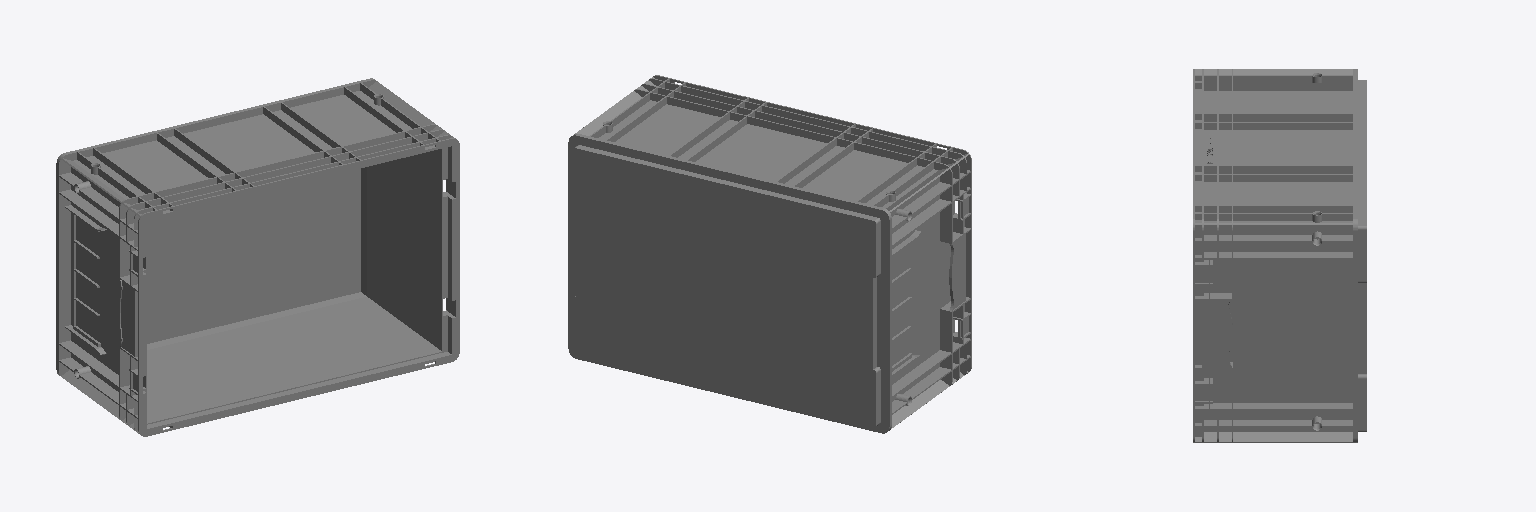
File: klt.obj
3 renders of one model, left to right at view 1: azimuth 30°, elevation 25°; view 2: azimuth 150°, elevation 25°; view 3: azimuth 270°, elevation 25°, orthographic.
Visible parts, largest first — view 1: klt; view 2: klt; view 3: klt.
Boxes of the visible parts, box(x1,y1,x2,y2) form: klt: box(56, 78, 459, 436); klt: box(568, 75, 971, 433); klt: box(1193, 69, 1366, 442).
Size of the model in its own units: 594 by 395 by 278.